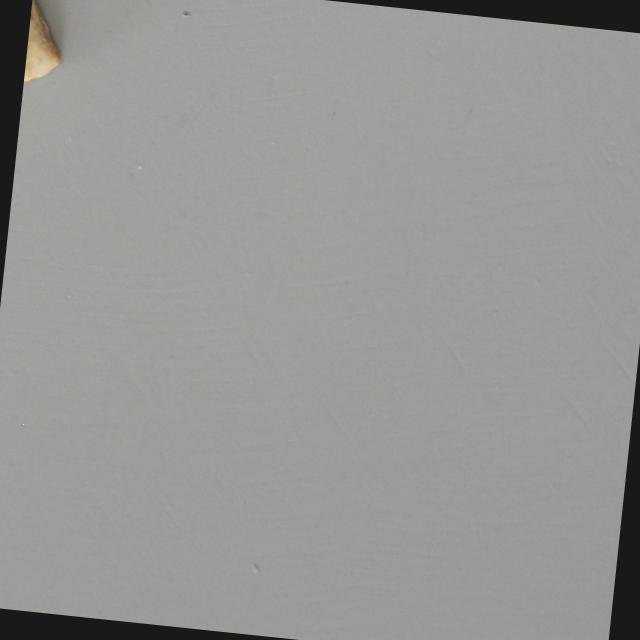dañado: (23, 0, 65, 84)
